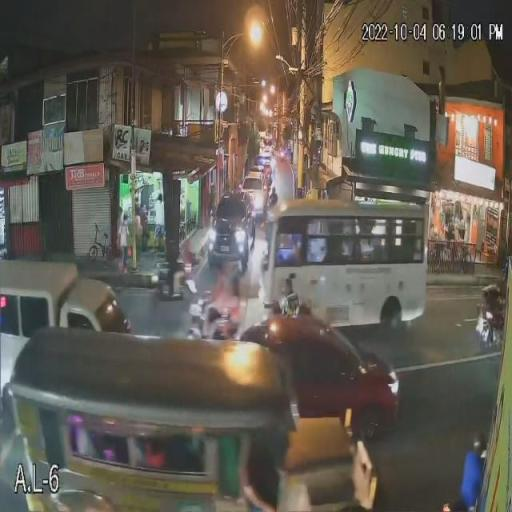helmet: (482, 284, 500, 297), (216, 264, 231, 278), (281, 276, 294, 292)
motorcycle: (184, 276, 242, 341), (475, 284, 506, 349), (154, 248, 186, 302)
rider: (206, 261, 240, 333), (479, 283, 506, 341), (183, 249, 207, 308), (267, 182, 279, 208)
